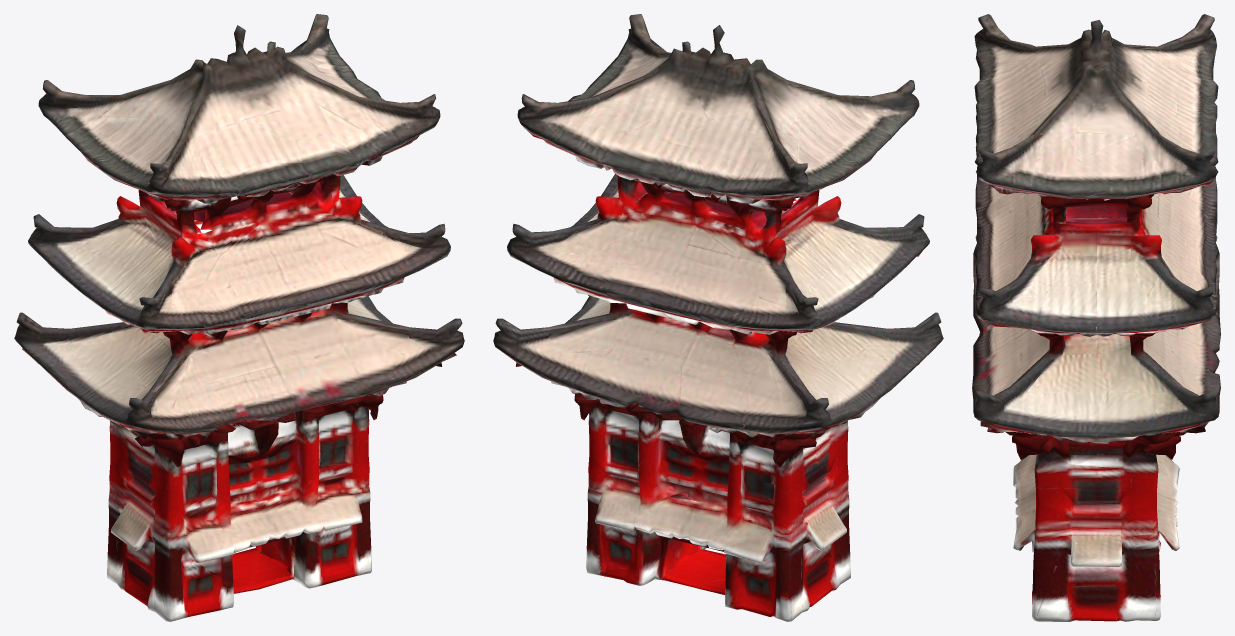
File: pagoda.glb
3 renders of one model, left to right at view 1: azimuth 30°, elevation 25°; view 2: azimuth 150°, elevation 25°; view 3: azimuth 270°, elevation 25°, orthographic.
Bounding box in the file's own units: 1.22 × 1.91 × 0.7789.
Materials: 1 (1 with a texture image).
